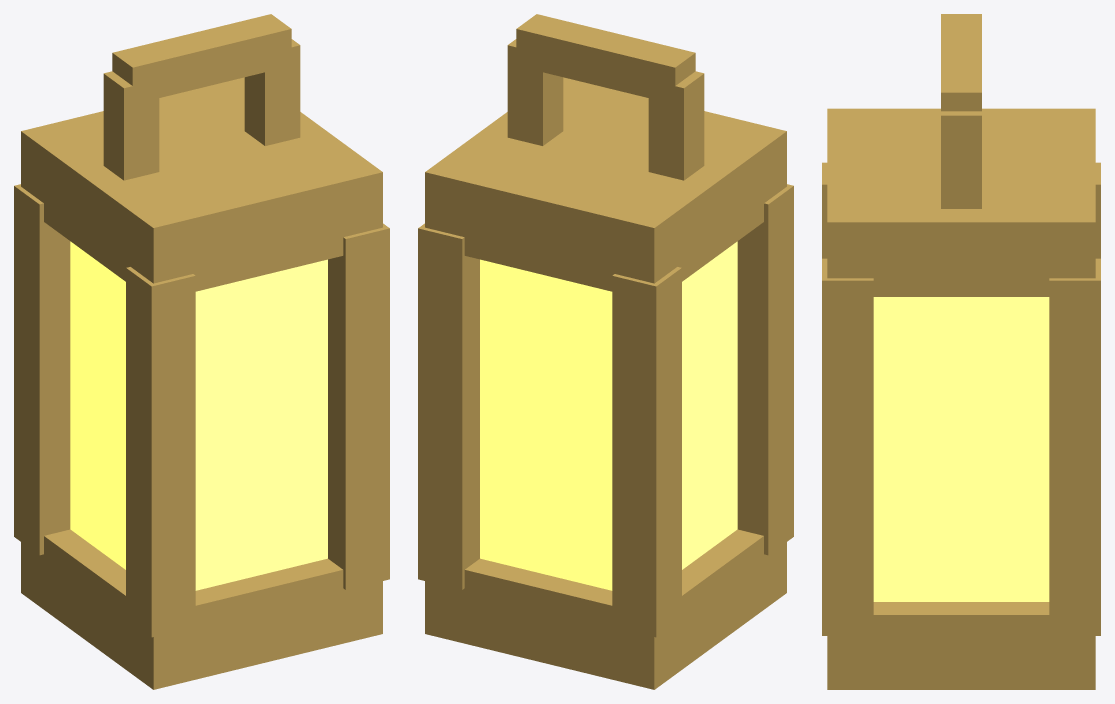
The model's file is lanterna_mao.glb.
3 renders of one model, left to right at view 1: azimuth 30°, elevation 25°; view 2: azimuth 150°, elevation 25°; view 3: azimuth 270°, elevation 25°, orthographic.
Parts seen in each view (by area): view 1: lanterna_mao; view 2: lanterna_mao; view 3: lanterna_mao.
Part boxes in pixels (left/top/right/bottom): lanterna_mao: left=14, top=14, right=389, bottom=689; lanterna_mao: left=418, top=14, right=793, bottom=689; lanterna_mao: left=822, top=14, right=1100, bottom=689.
Size of the model in its own units: 0.135 by 0.31 by 0.135.
